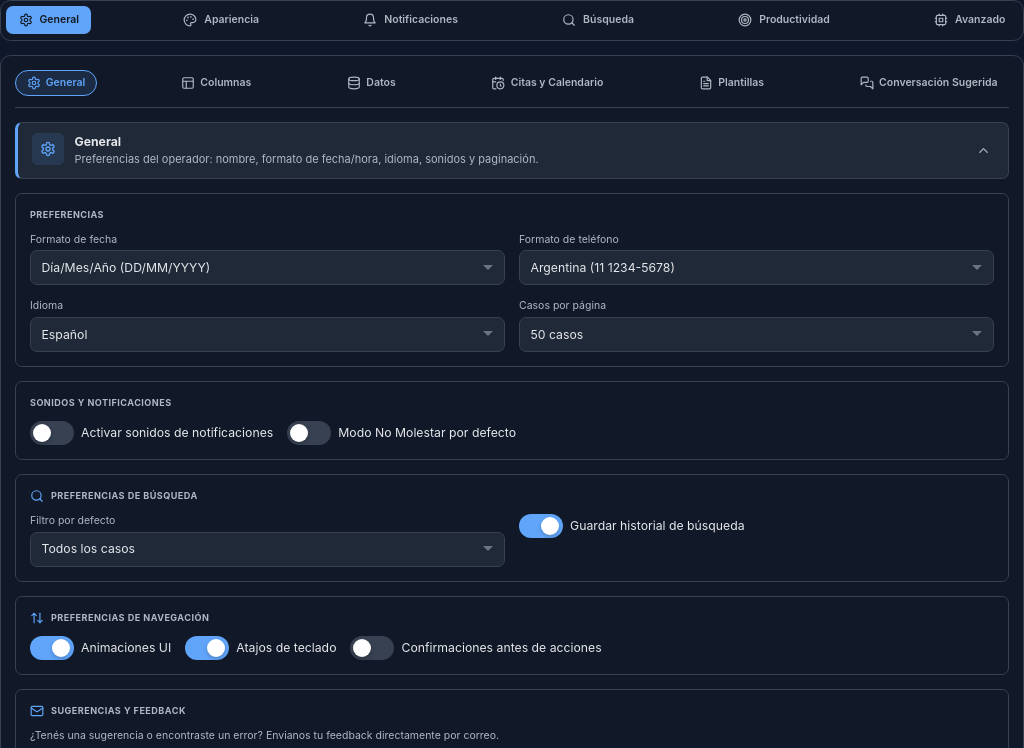
Scenario: ConfiguracionView · Conversación Sugerida (1.9.6) › lista las categorías con su conteo y OPERADOR como variable reservada
The width and height of the screenshot is (1024, 748).
Click the button "Conversación Sugerida". click: coordinates (929, 83)
box: 848,70 -> 1009,96
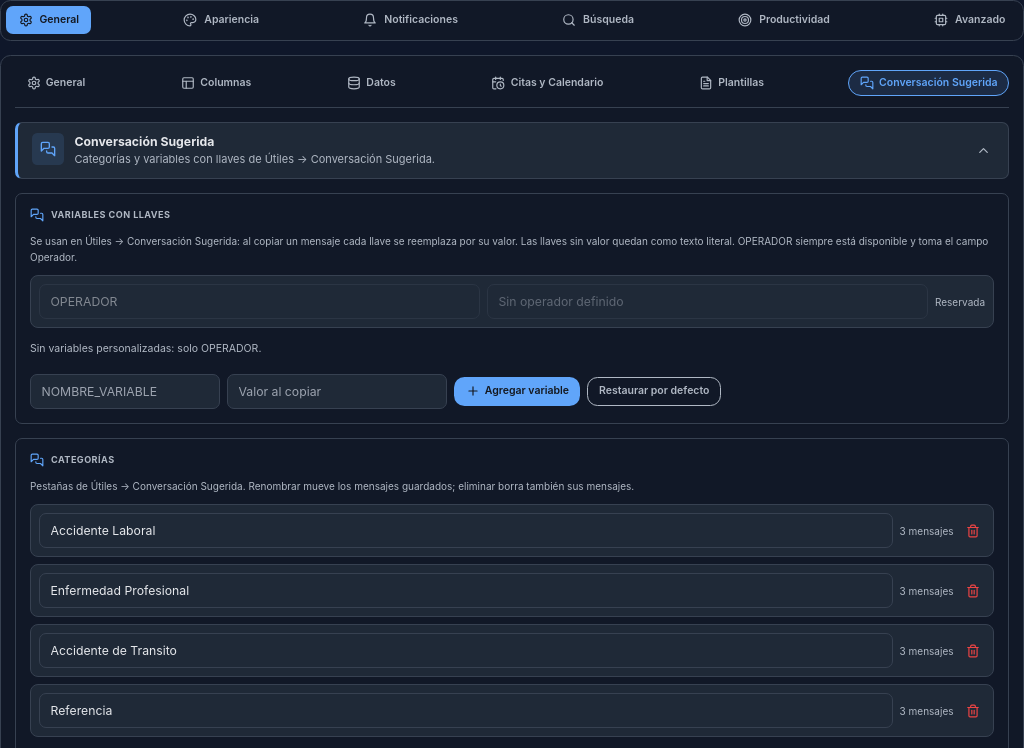
expect the field named "Variable reservada" is disabled: met, box 39,284 -> 480,319
expect the field showing "Accidente Laboral" is shown: met, box 39,514 -> 893,548
expect the text "3 mensajes" is shown 4 times: met, box 900,523 -> 954,539; 900,583 -> 954,599; 900,643 -> 954,659; 900,703 -> 954,719
